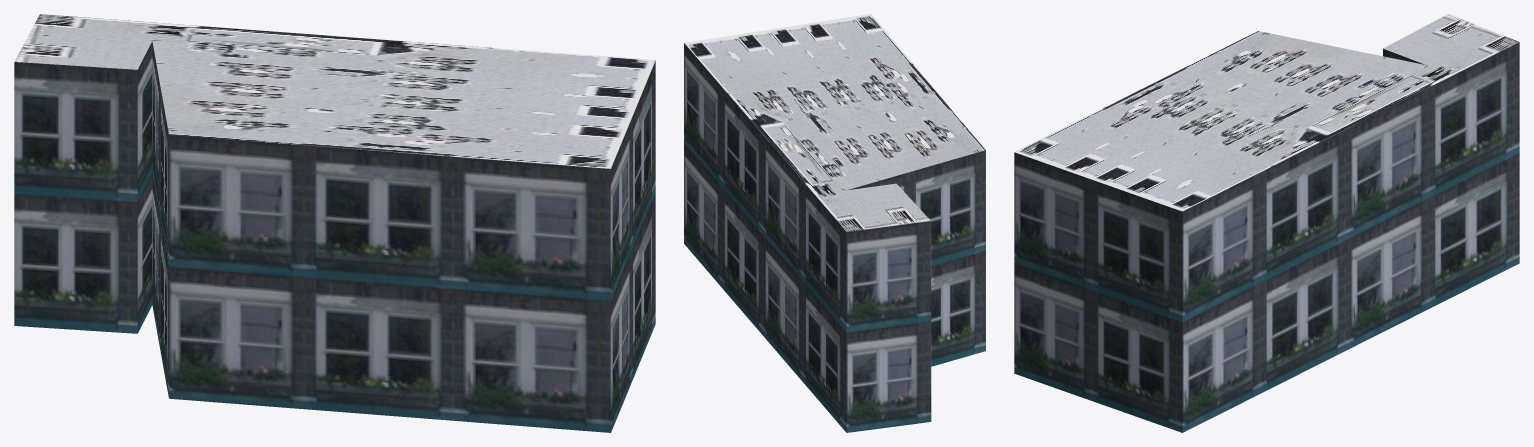
The model's file is ResTex__4945.fbx.
The picture shows the model from 3 angles, left to right: view 1: azimuth 30°, elevation 25°; view 2: azimuth 150°, elevation 25°; view 3: azimuth 270°, elevation 25°; orthographic projection. The views are drawn at different scales.
Visible parts, largest first — view 1: CityEngineMaterial_11_m, CityEngineMaterial_4_m; view 2: CityEngineMaterial_11_m, CityEngineMaterial_4_m; view 3: CityEngineMaterial_11_m, CityEngineMaterial_4_m.
Boxes of the visible parts, x1=… form: CityEngineMaterial_11_m: x1=14, y1=41, x2=655, y2=432; CityEngineMaterial_4_m: x1=14, y1=14, x2=655, y2=168; CityEngineMaterial_11_m: x1=684, y1=43, x2=985, y2=432; CityEngineMaterial_4_m: x1=684, y1=14, x2=985, y2=231; CityEngineMaterial_11_m: x1=1014, y1=42, x2=1519, y2=432; CityEngineMaterial_4_m: x1=1014, y1=14, x2=1518, y2=211.
Bounding box in the file's own units: 11.49 × 6 × 12.42.
Materials: 2 (2 with a texture image).
